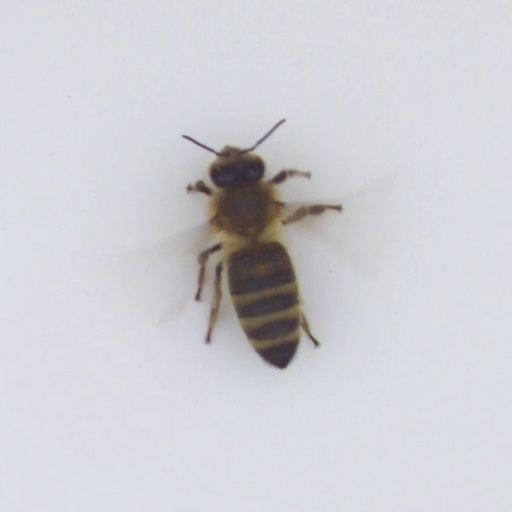Bee: (202, 136, 321, 385)
Thorax: (209, 182, 277, 238)
